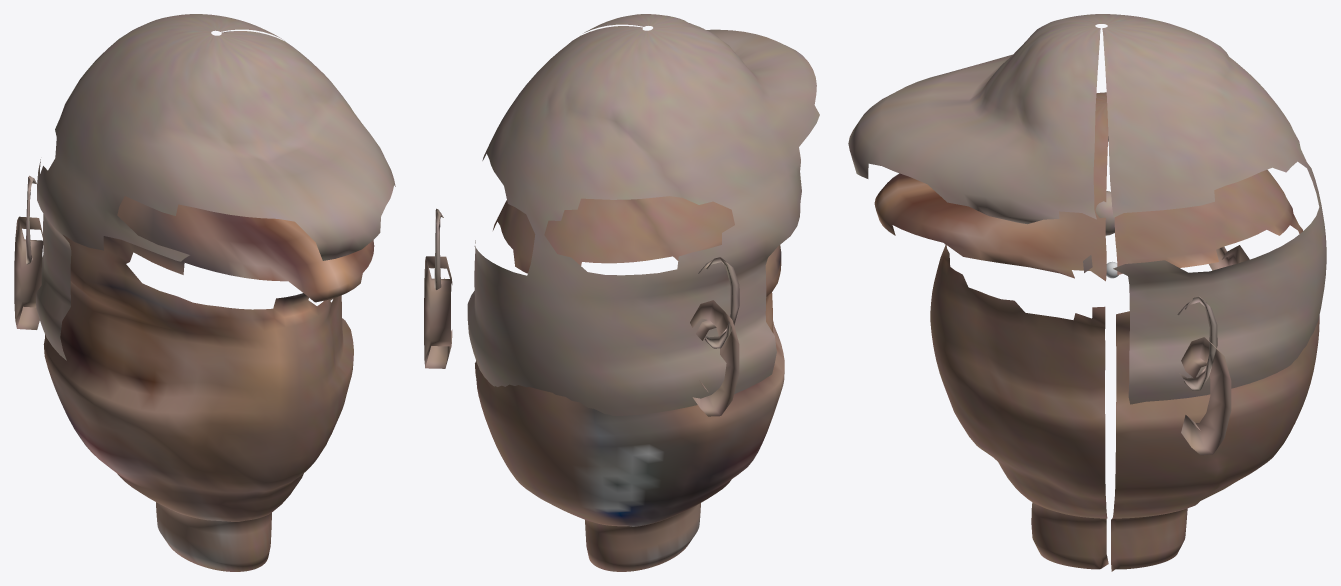
File: avatar_v2_976f9851.glb
The picture shows the model from 3 angles, left to right: view 1: azimuth 30°, elevation 25°; view 2: azimuth 150°, elevation 25°; view 3: azimuth 270°, elevation 25°; orthographic projection.
Visible parts, largest first — view 1: world; view 2: world; view 3: world.
Boxes of the visible parts, x1=… form: world: x1=14, y1=14, x2=395, y2=571; world: x1=424, y1=14, x2=819, y2=571; world: x1=848, y1=14, x2=1326, y2=571.
Bounding box in the file's own units: 0.1037 × 0.1581 × 0.1306.
